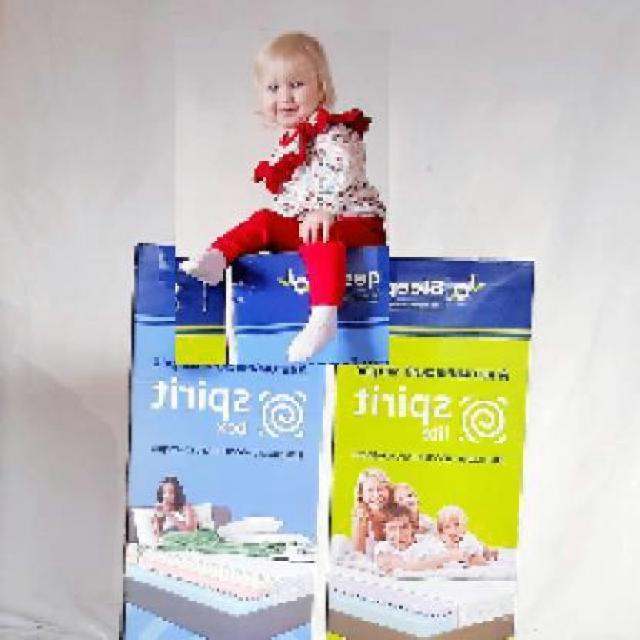child: (174, 31, 389, 366)
